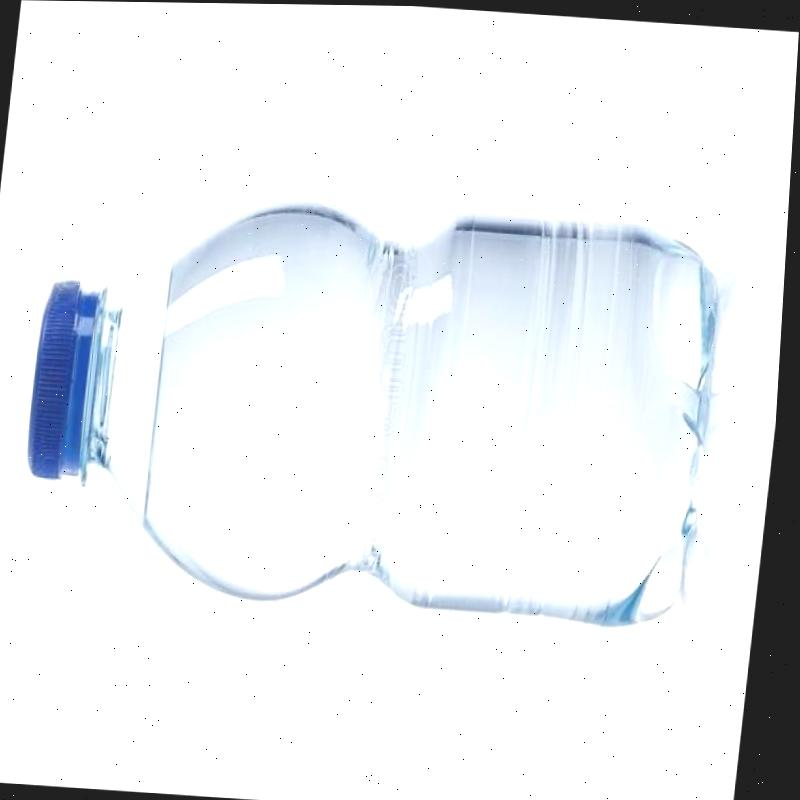botella: (19, 190, 732, 622)
